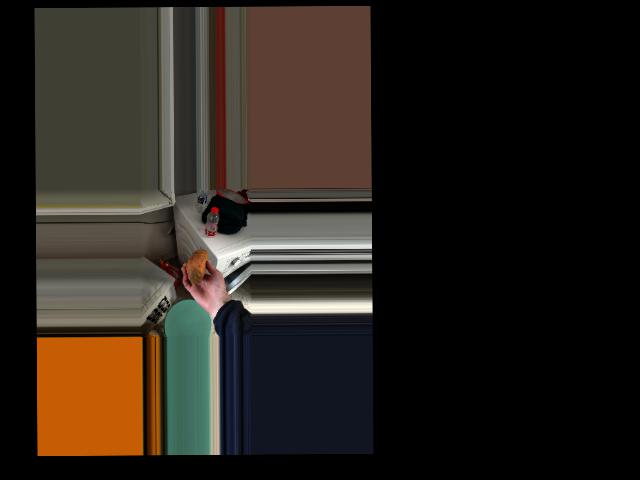sweet_potato: (187, 248, 205, 288)
